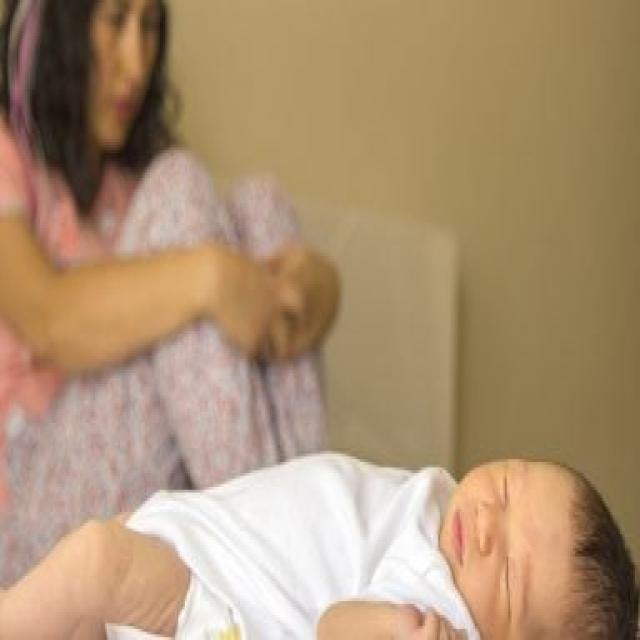non-dog: (1, 1, 343, 590), (0, 450, 640, 640)
